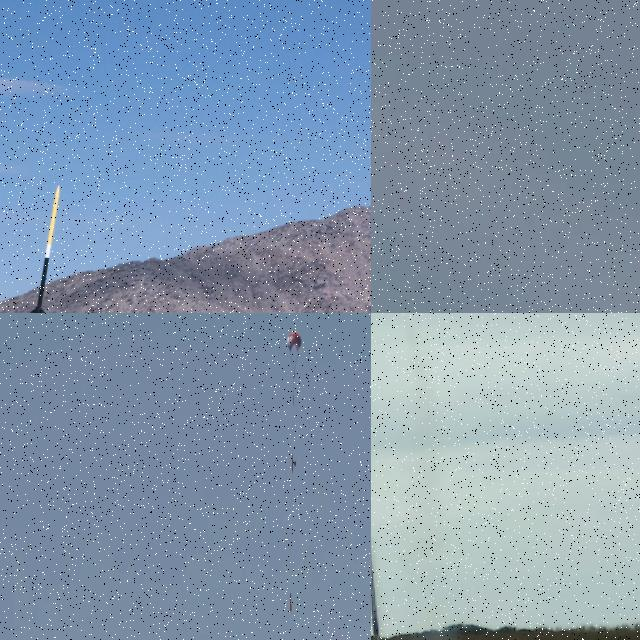Rocket: (29, 184, 61, 313), (289, 592, 293, 612)
